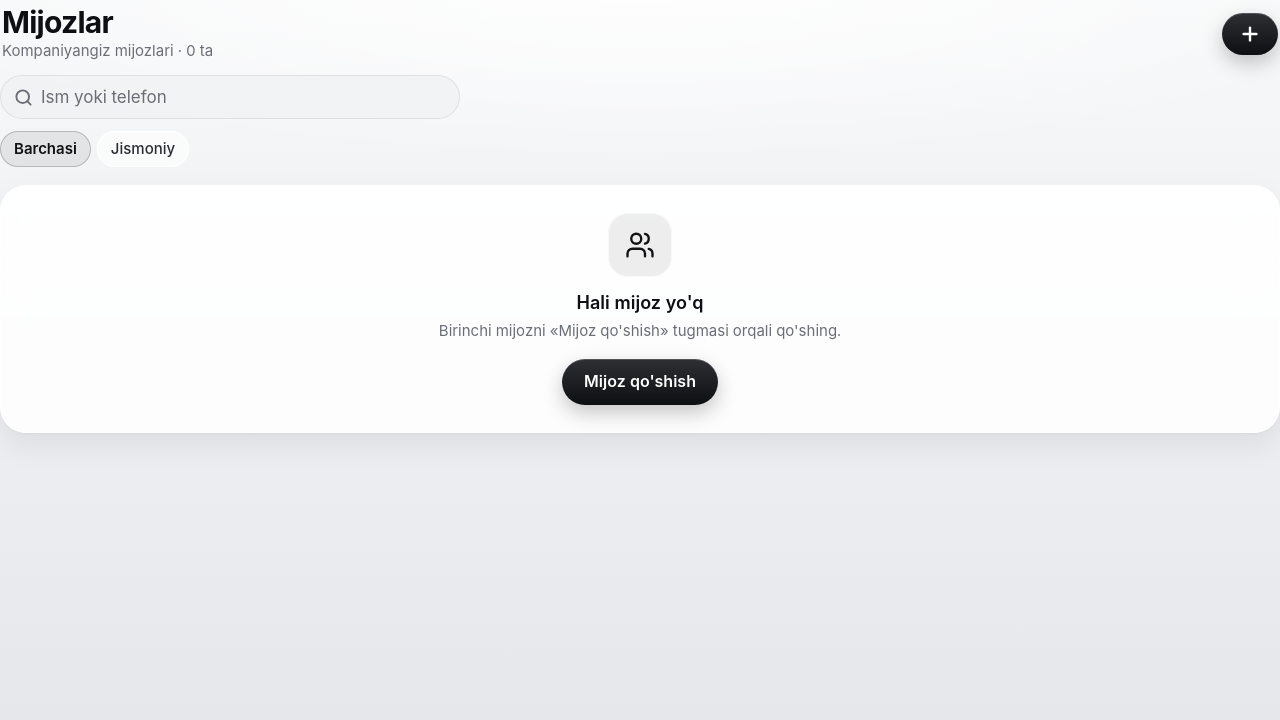
Scenario: a company with one type is asked for no type
The image size is (1280, 720).
What coordinates should you click on to do the following:
click the button named "Mijoz qo'shish"
I would click on:
 (1250, 34)
Its box is [1222, 13, 1278, 55].
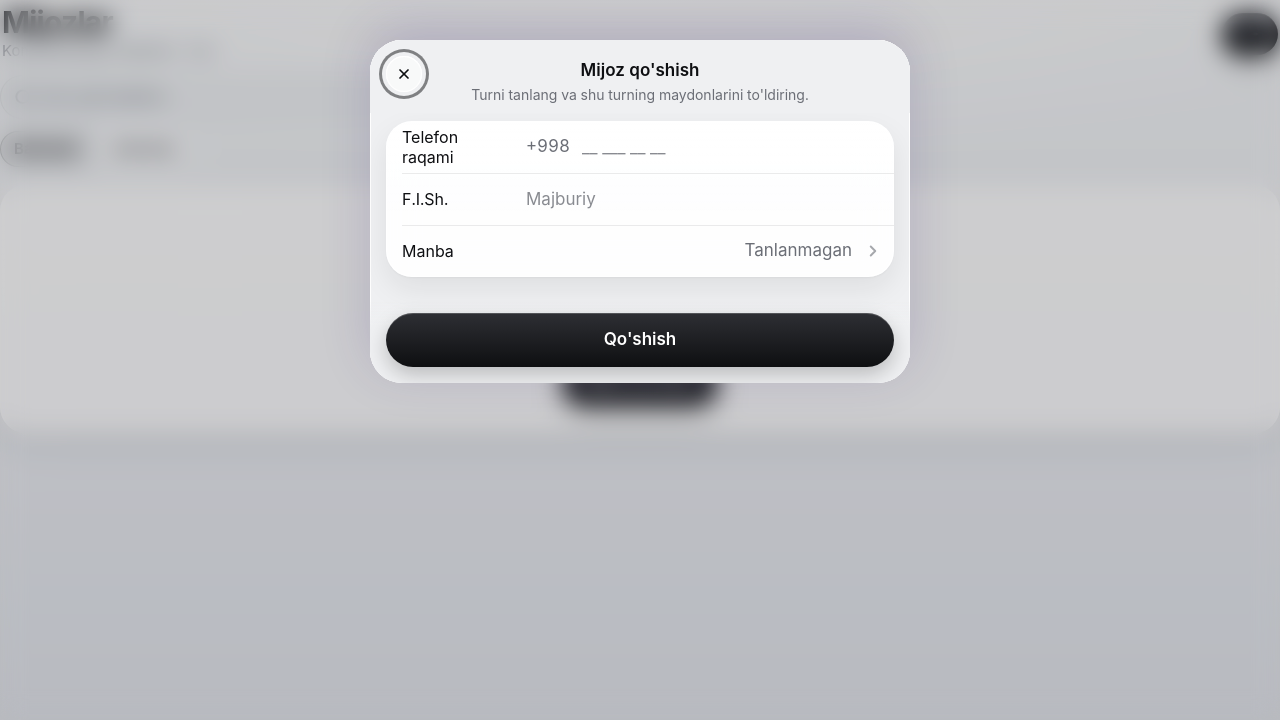
Expected: the field labelled "F.I.Sh." is shown, [526, 176, 878, 220]
